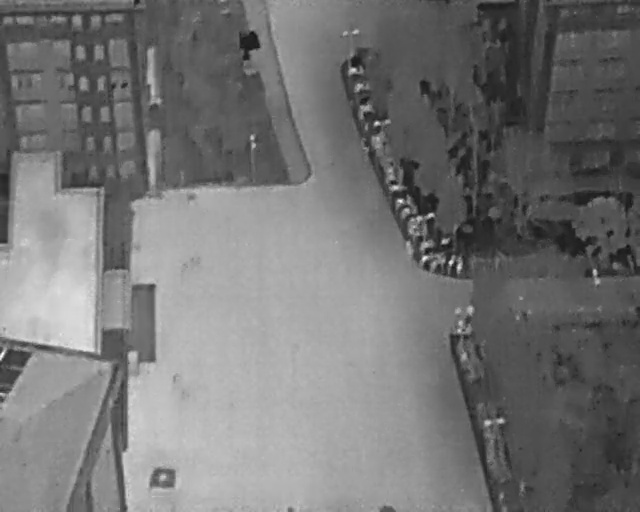Bicycle: (457, 252, 465, 276), (348, 65, 367, 75), (449, 252, 455, 273)
DontCare: (357, 91, 446, 276)
Person: (593, 277, 600, 294), (593, 265, 598, 281)
